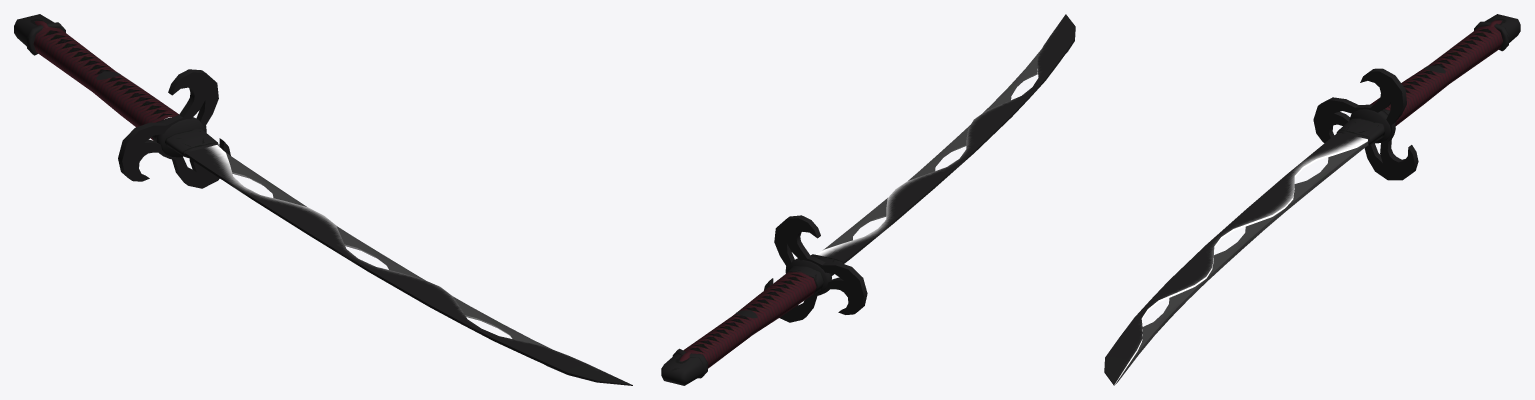
File: Weapon_Lsword_074.glb
3 views of the same model, side by side, from view 1: azimuth 30°, elevation 25°; view 2: azimuth 150°, elevation 25°; view 3: azimuth 330°, elevation 25° (orthographic). The views are drawn at different scales.
Parts seen in each view (by area): view 1: Weapon_Lsword_074; view 2: Weapon_Lsword_074; view 3: Weapon_Lsword_074.
Part boxes in pixels (bbox=[...]): Weapon_Lsword_074: bbox=[14, 14, 632, 385]; Weapon_Lsword_074: bbox=[661, 14, 1075, 385]; Weapon_Lsword_074: bbox=[1104, 14, 1520, 385].
Size of the model in its own units: 0.3127 by 0.2452 by 1.96.
1 material, 1 textured.
